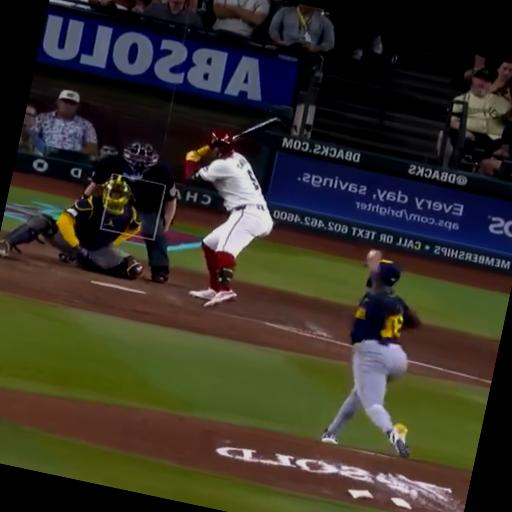bat: (232, 117, 282, 141)
